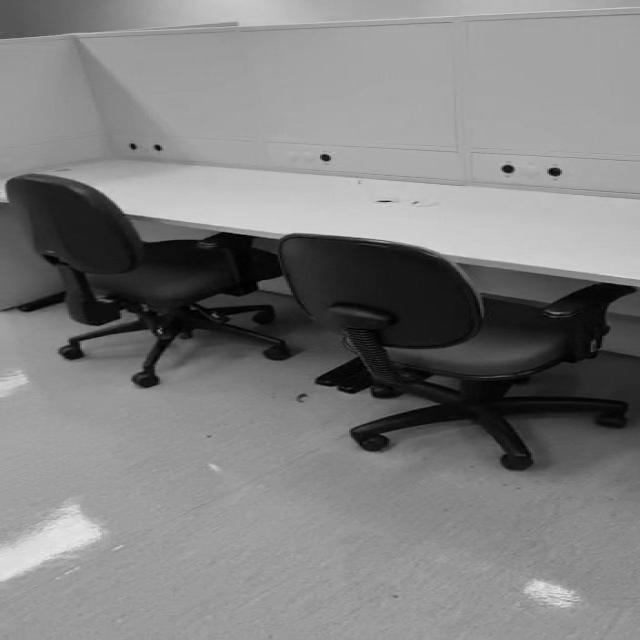chair: (6, 174, 291, 388)
